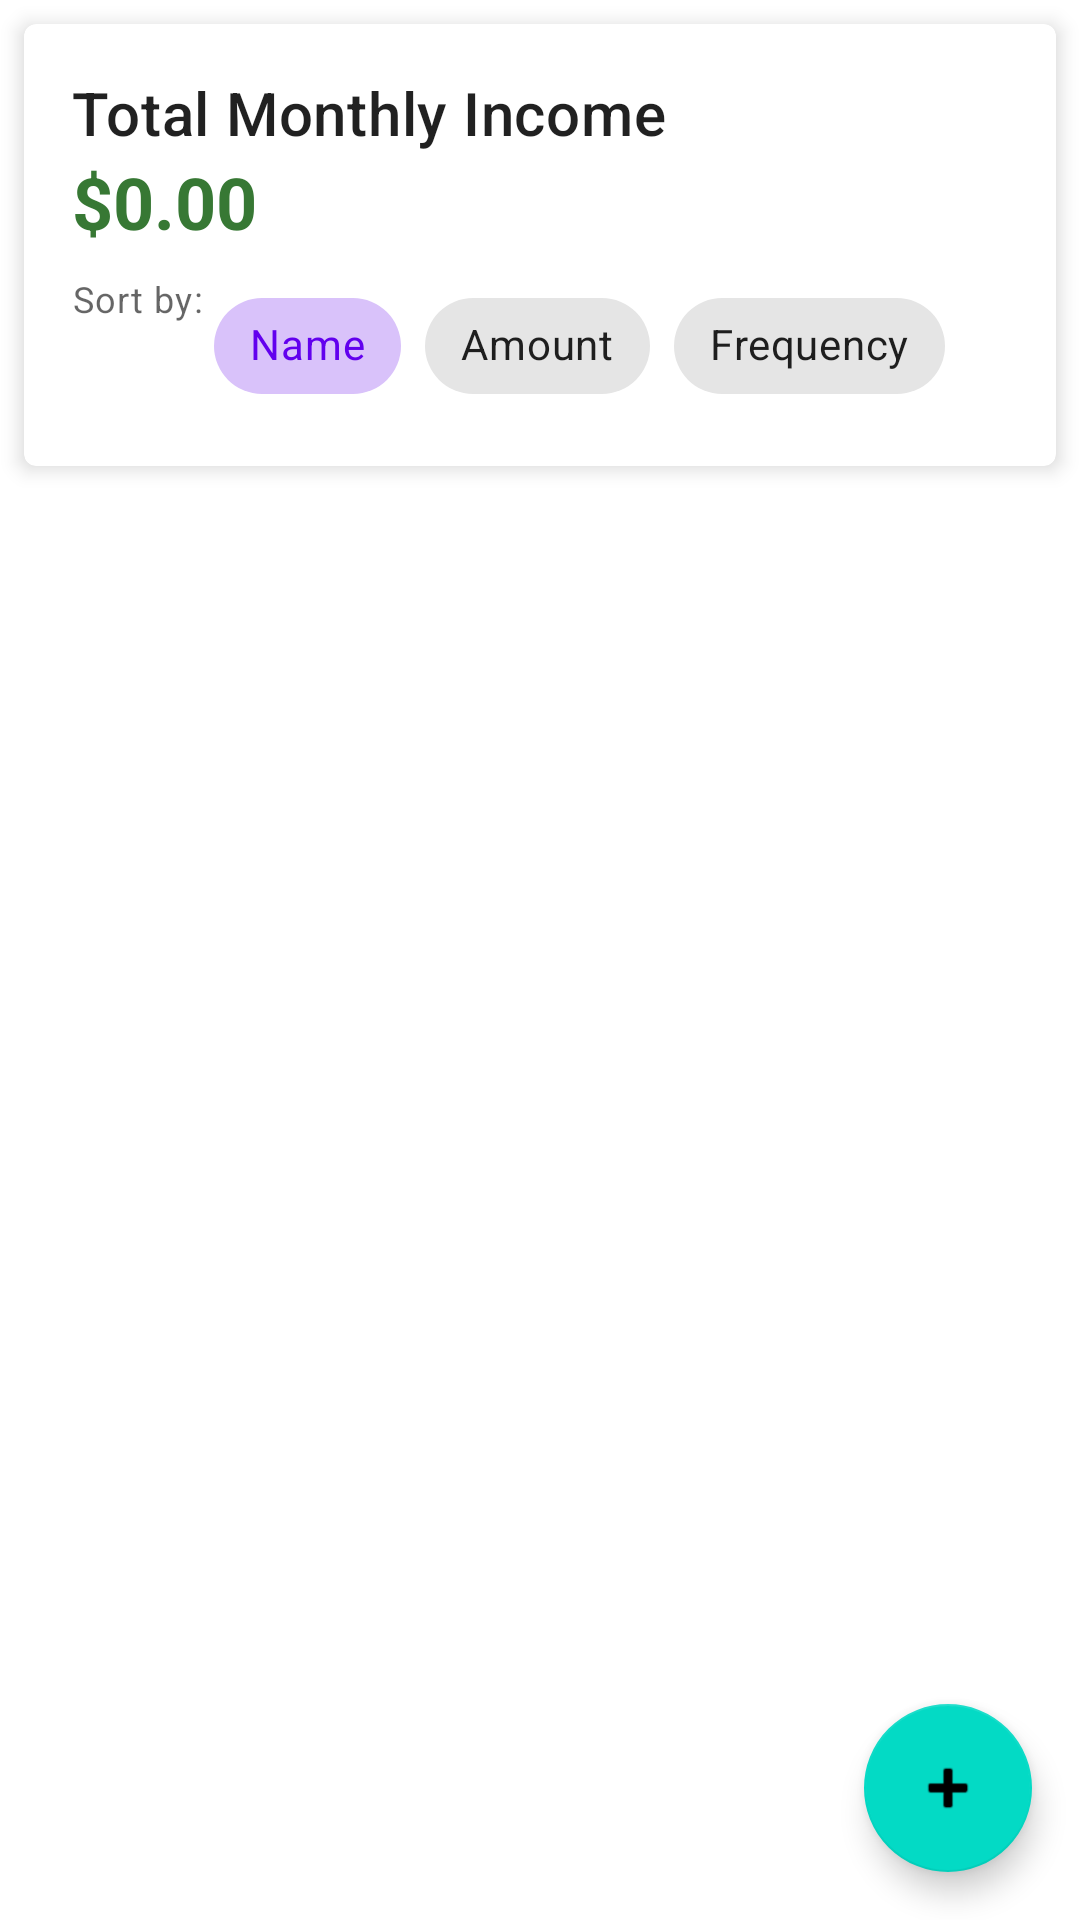

Icons on this 1080×1920 Android screen, each with its box as rect(x1, y1, x2, y2):
Add income: rect(864, 1704, 1032, 1872)
